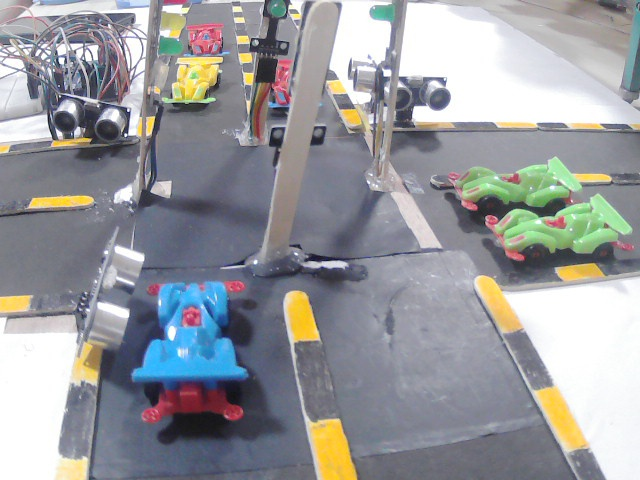car: (144, 279, 267, 435), (492, 213, 640, 263), (446, 173, 605, 214), (256, 60, 314, 112), (179, 51, 224, 118), (187, 20, 225, 54)
traffic_light: (160, 0, 190, 59), (368, 2, 406, 32), (260, 5, 294, 24)
uno_breadboard: (35, 52, 126, 98), (57, 100, 135, 139), (398, 73, 453, 111), (347, 56, 388, 97)
